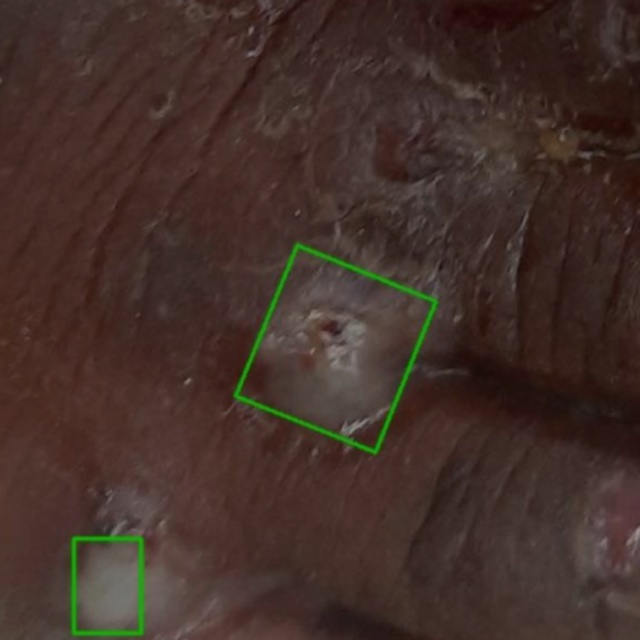Eczema: (235, 244, 435, 451), (74, 538, 141, 633)
